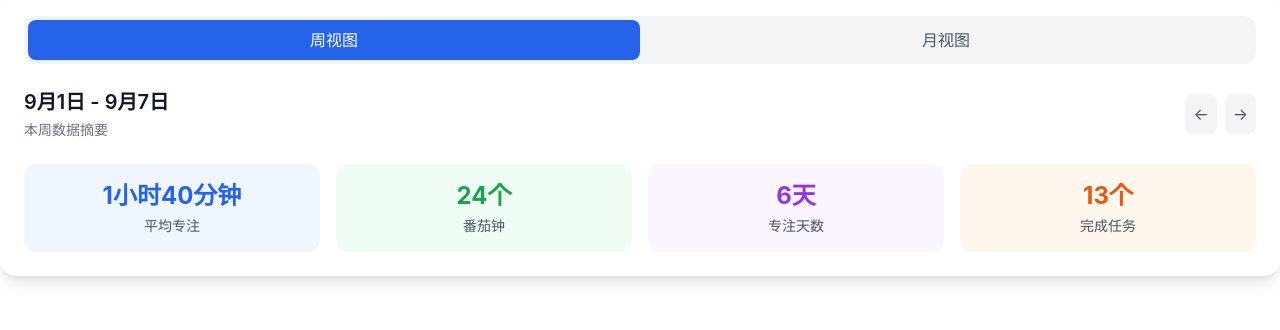
Test: REQ-TM-S05: 查看周/月度数据摘要 - 验收测试 › AC-S05.3: 月视图数据显示 › 月视图在没有数据时应该显示友好提示
The width and height of the screenshot is (1280, 330).
What coordinates should you click on to do the following:
click the tab with test id "month-view-button"
I would click on:
 (946, 40)
Its box is x1=640 y1=20 x2=1252 y2=60.
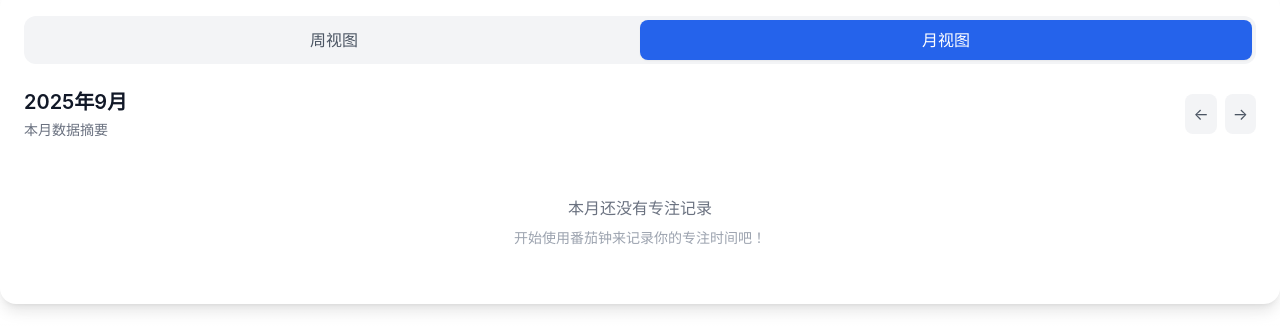
Expected: the text "本月还没有专注记录" is shown, x1=568 y1=198 x2=712 y2=218
